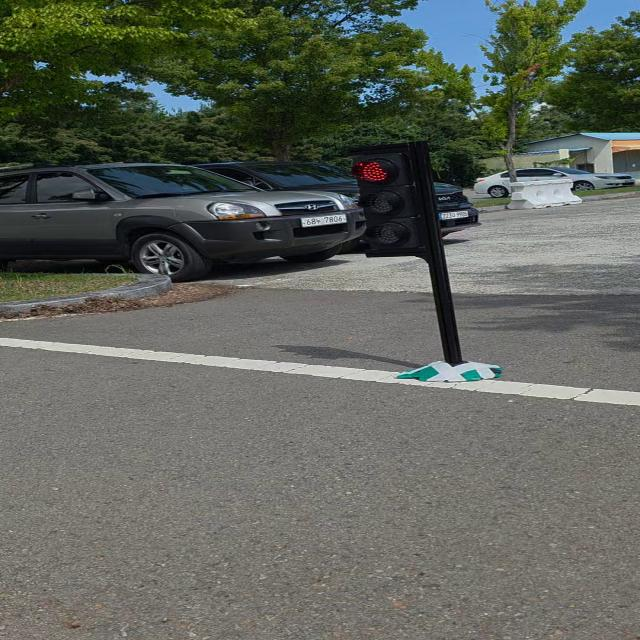red: (348, 148, 427, 257)
